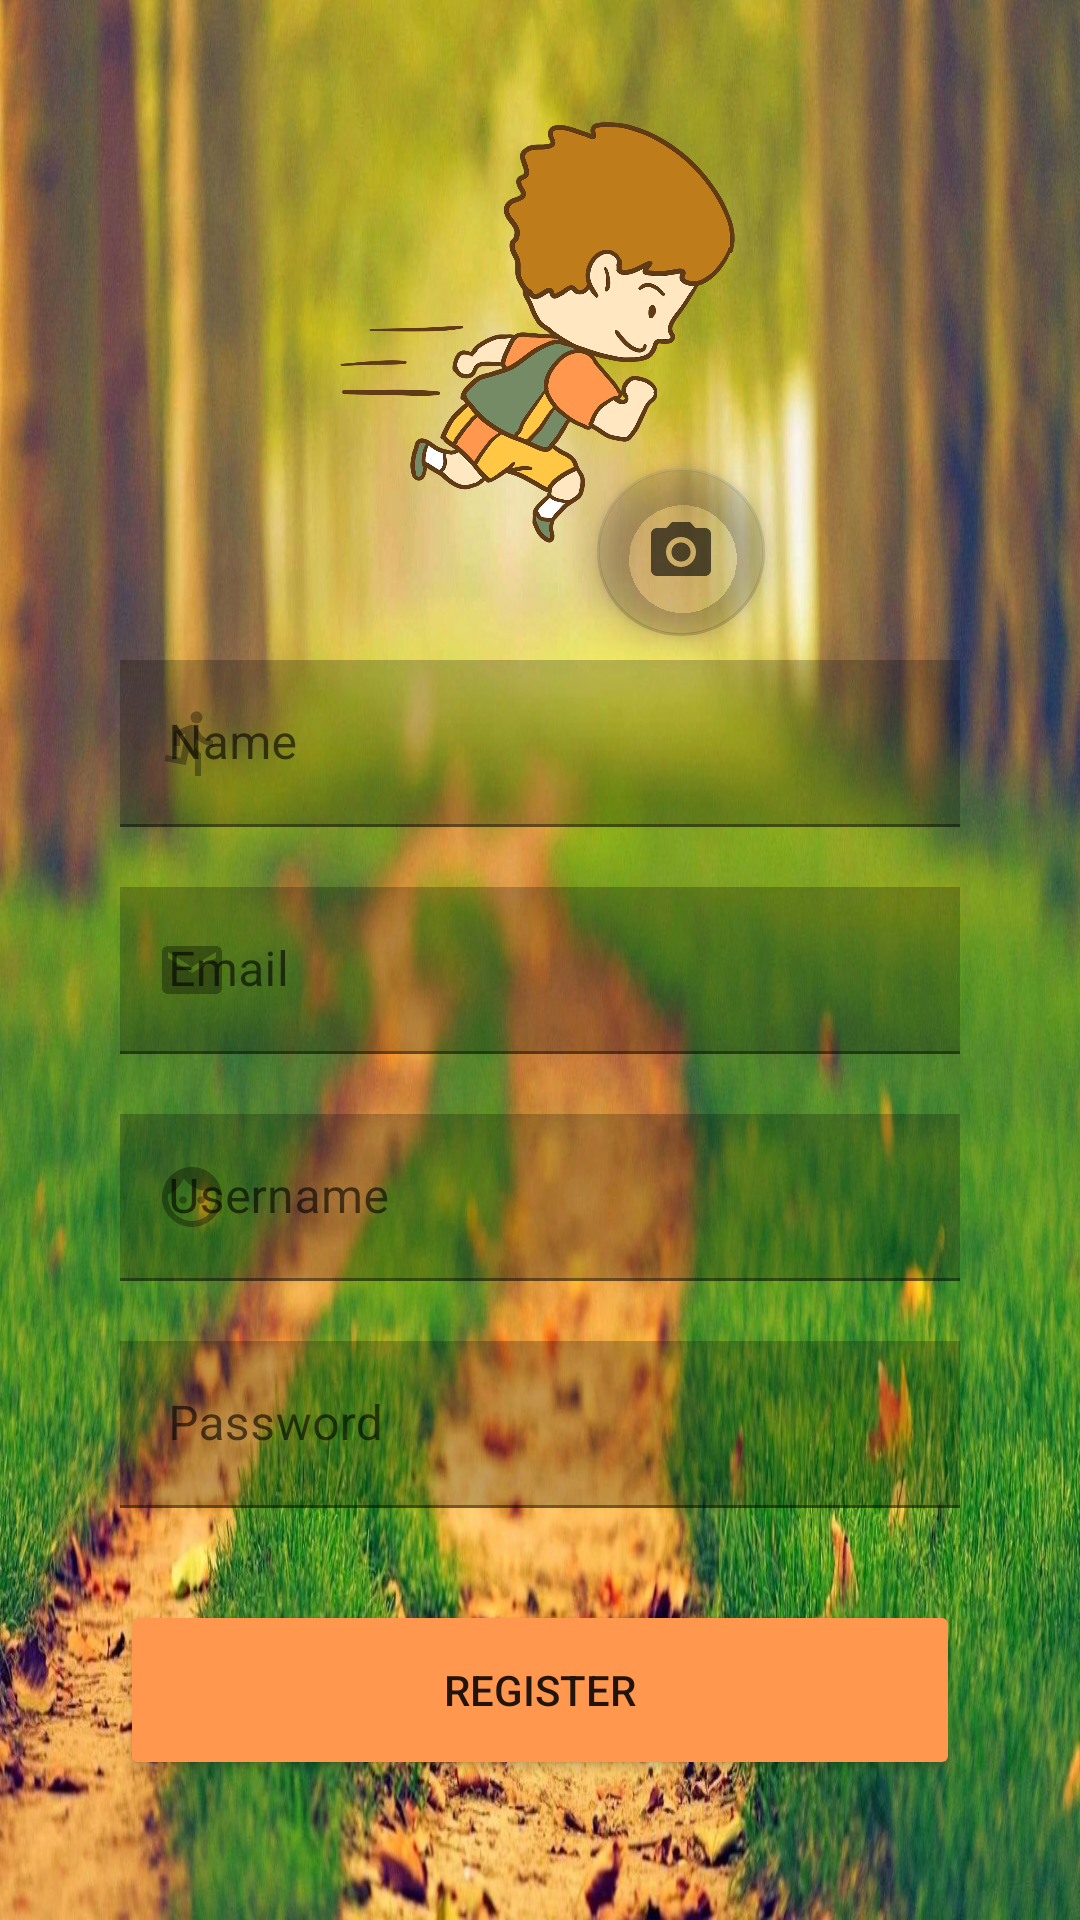

Icon click points for this 1080px x 1920px phone screenshot, format (x=x, y=y):
camera: (x=681, y=552)
